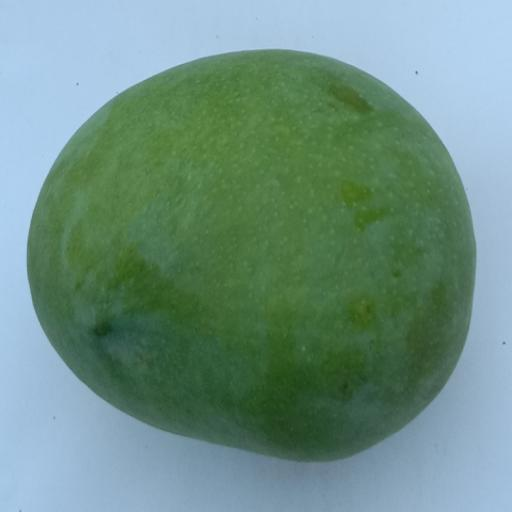mango-unripe: (9, 33, 493, 487)
